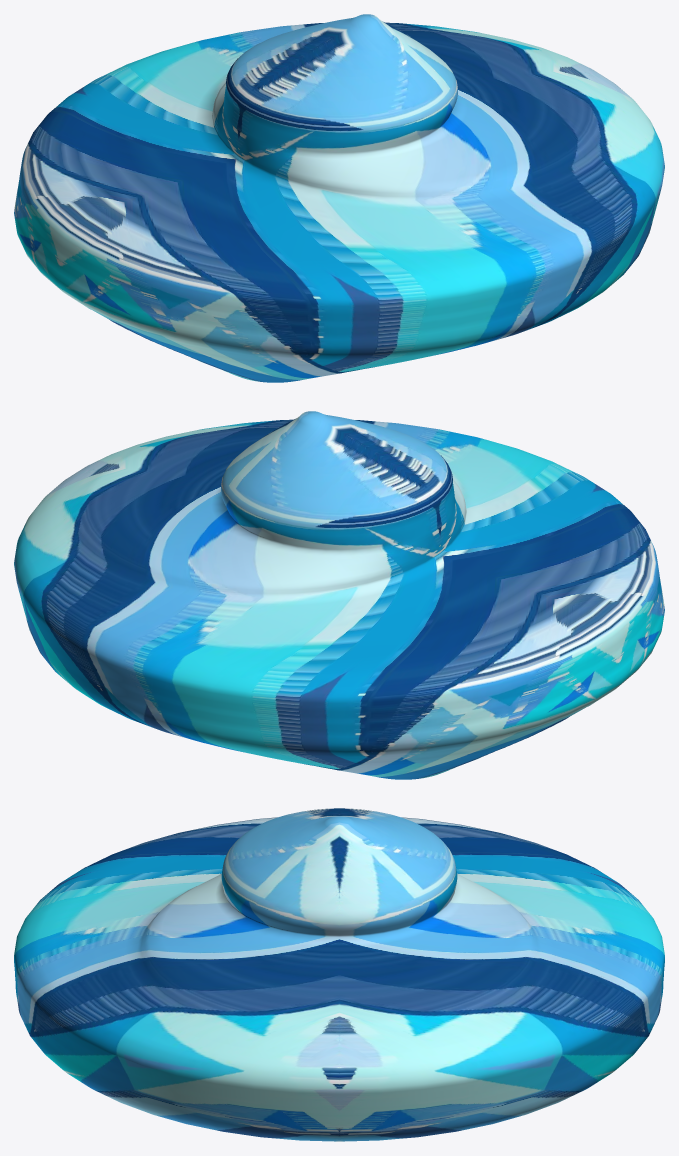
The model's file is crystal_cluster.glb.
The picture shows the model from 3 angles, top to bottom: view 1: azimuth 30°, elevation 25°; view 2: azimuth 150°, elevation 25°; view 3: azimuth 270°, elevation 25°; orthographic projection.
Parts seen in each view (by area): view 1: crystal_cluster; view 2: crystal_cluster; view 3: crystal_cluster.
Part boxes in pixels (box(x1,y1,x2,y2)): crystal_cluster: box(14, 14, 664, 382); crystal_cluster: box(14, 411, 664, 779); crystal_cluster: box(14, 808, 664, 1141).
Size of the model in its own units: 0.9961 by 0.5614 by 0.9818.
1 material, 1 textured.
